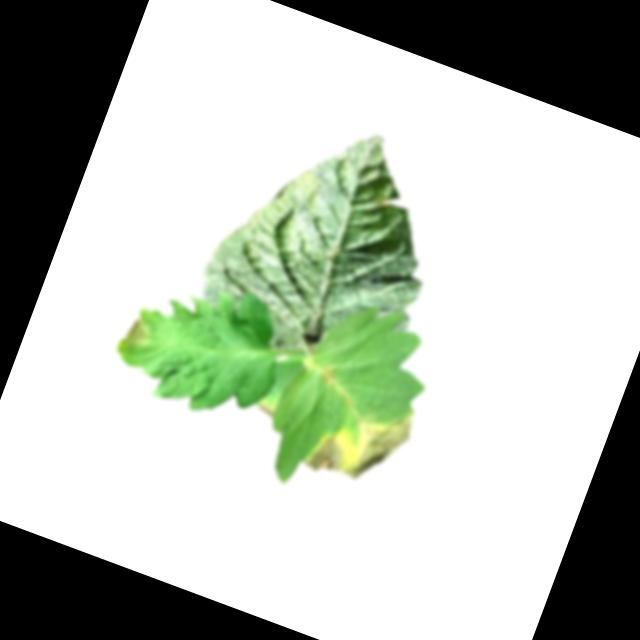Late_blight: (301, 380, 420, 499), (119, 308, 158, 354), (256, 402, 279, 418)
